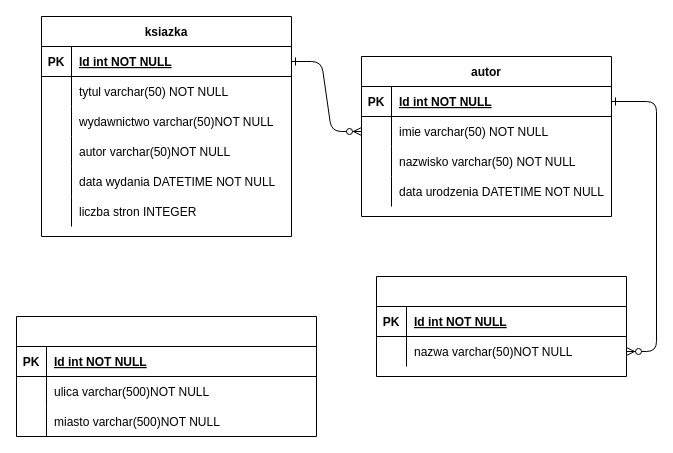
Some shapes in this 673 by 453 pixel diagram are drawn without their labels. Here are the shapes that lost their labels. From the top down, the box of each, then its label:
(376, 276, 626, 376): wydawnictwo
(16, 316, 316, 436): adres
